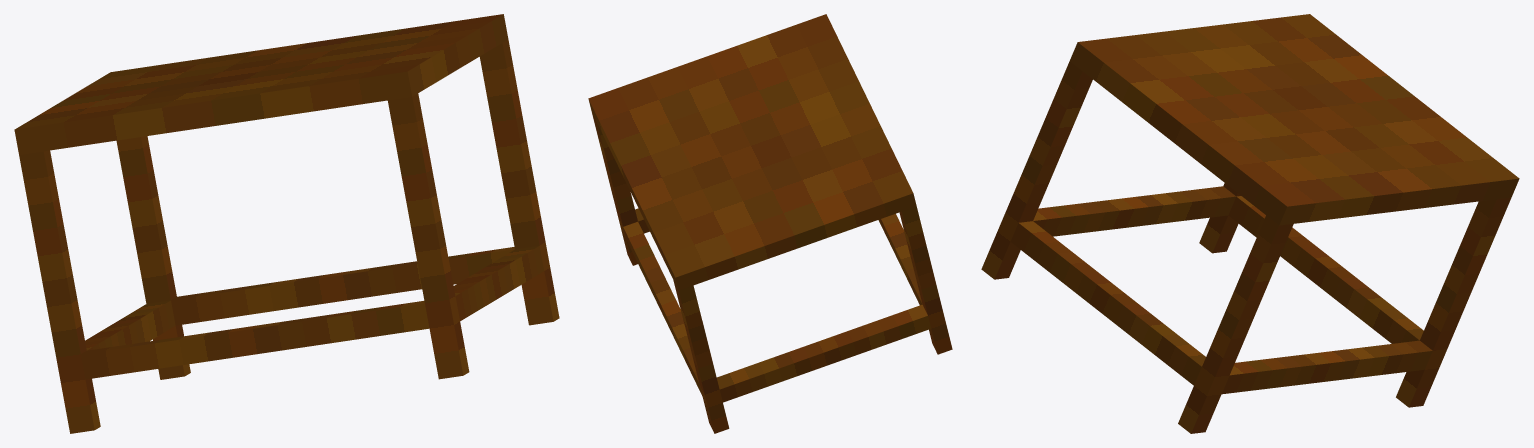
File: mesa.obj
The picture shows the model from 3 angles, left to right: view 1: azimuth 30°, elevation 25°; view 2: azimuth 150°, elevation 25°; view 3: azimuth 270°, elevation 25°; orthographic projection. The views are drawn at different scales.
Visible parts, largest first — view 1: cube; view 2: cube; view 3: cube.
Part boxes in pixels (x1,y1,x2,y2): cube: (14, 14, 559, 433); cube: (588, 14, 952, 433); cube: (981, 14, 1519, 433).
Size of the model in its own units: 0.3709 by 0.3287 by 0.4207.
